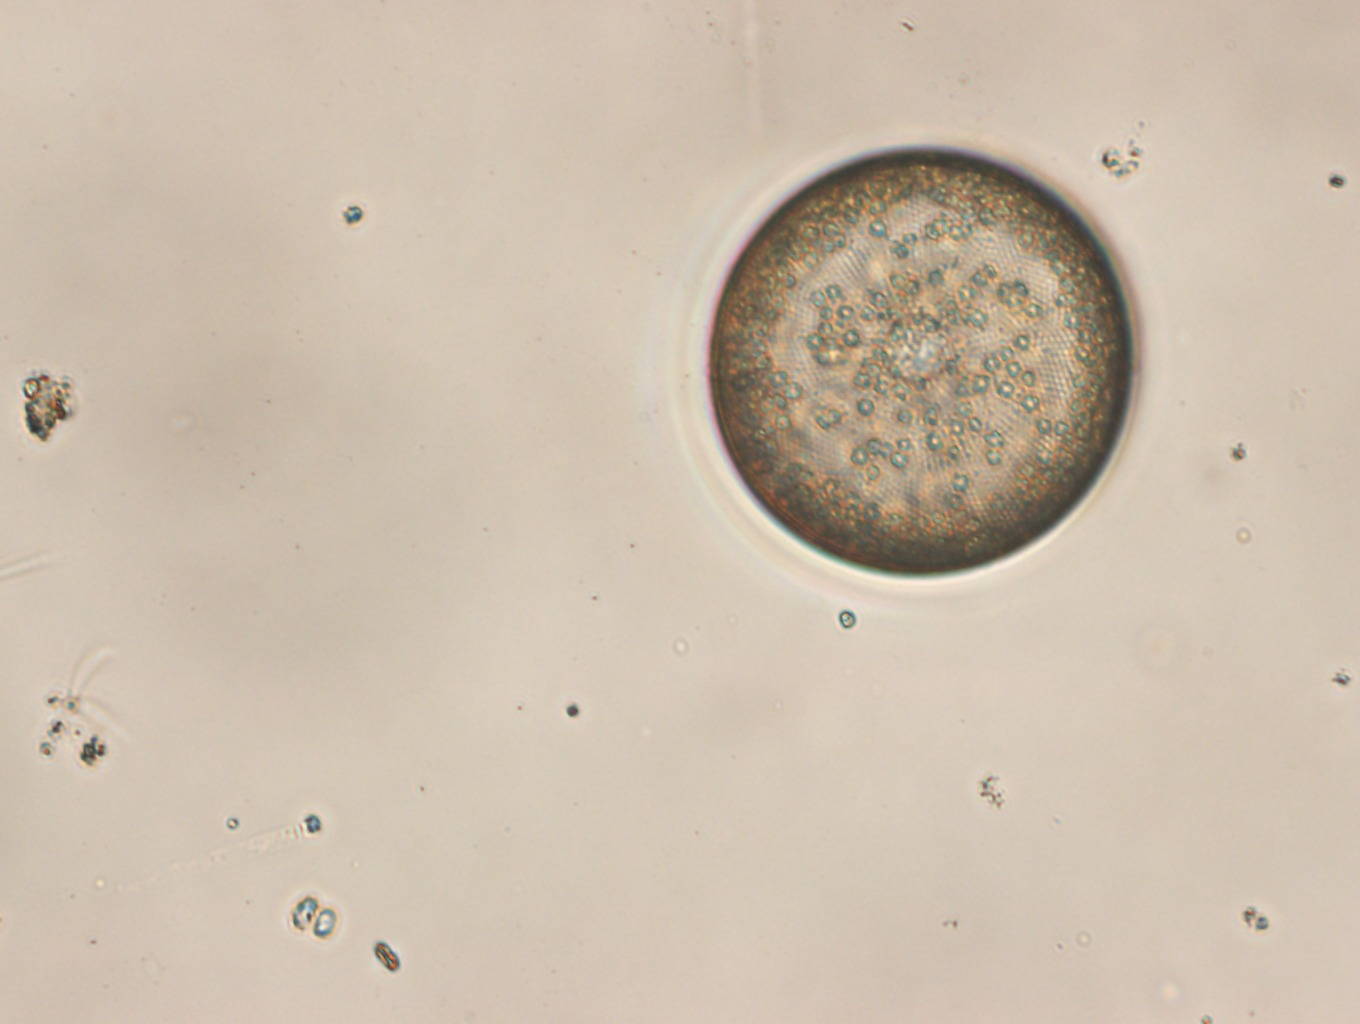coscinodiscus: (705, 142, 1137, 583)
